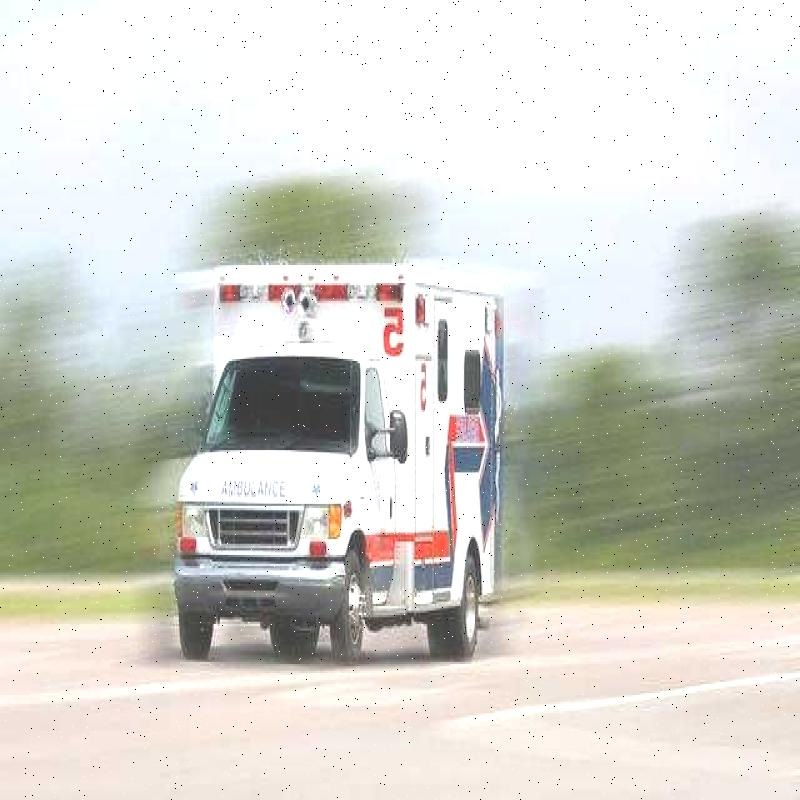AmbulanceSiren: (214, 268, 415, 314)
ambulance: (157, 231, 512, 669)
